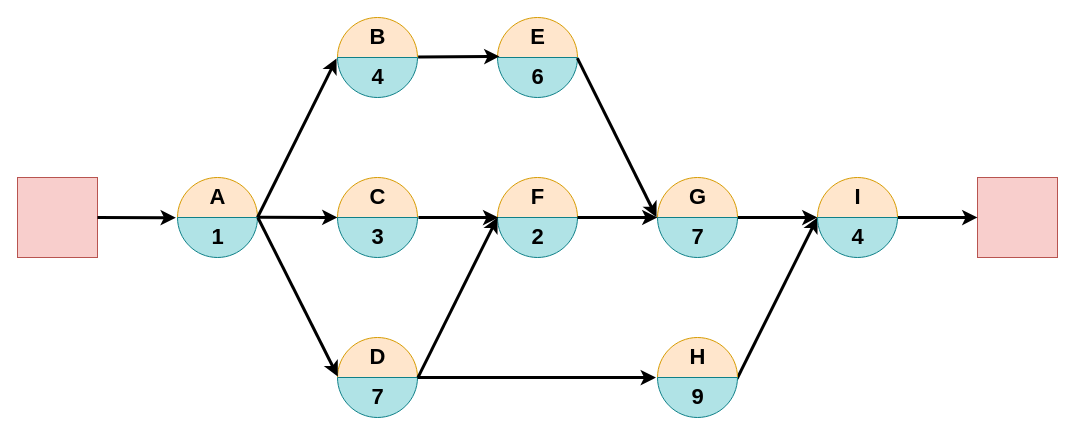
The diagram is 1075 pixels wide and 435 high, and some of its shapes have lost their labels. Here are the shapes that lost their labels. From the top down, the centre of each, then its label:
the point at 57,217: Start
the point at 1017,217: Finish
